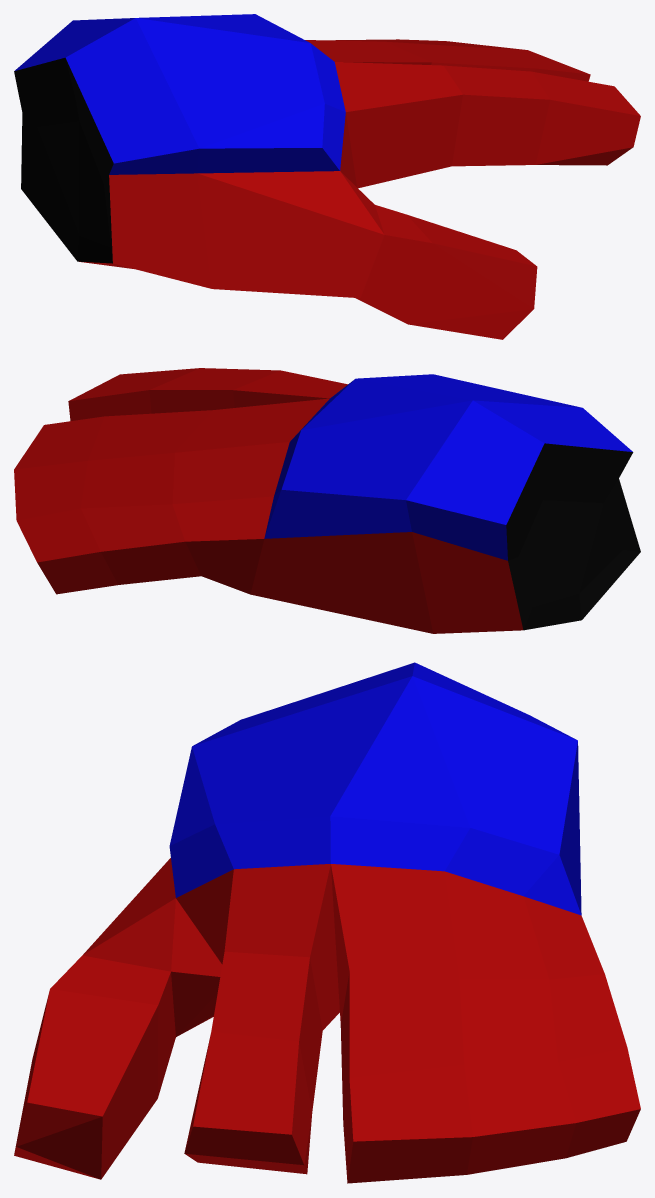
Rendered from Chr_HandLeft_Male_Static_11.fbx.
3 views of the same model, one above another, from view 1: azimuth 30°, elevation 25°; view 2: azimuth 150°, elevation 25°; view 3: azimuth 270°, elevation 25° (orthographic). The views are drawn at different scales.
Visible parts, largest first — view 1: Chr_HandLeft_Male_11; view 2: Chr_HandLeft_Male_11; view 3: Chr_HandLeft_Male_11.
Boxes of the visible parts, box(x1,y1,x2,y2) form: Chr_HandLeft_Male_11: box(14, 14, 640, 339); Chr_HandLeft_Male_11: box(14, 368, 640, 633); Chr_HandLeft_Male_11: box(14, 662, 640, 1183).
Size of the model in its own units: 23.7 by 12.02 by 18.8.
